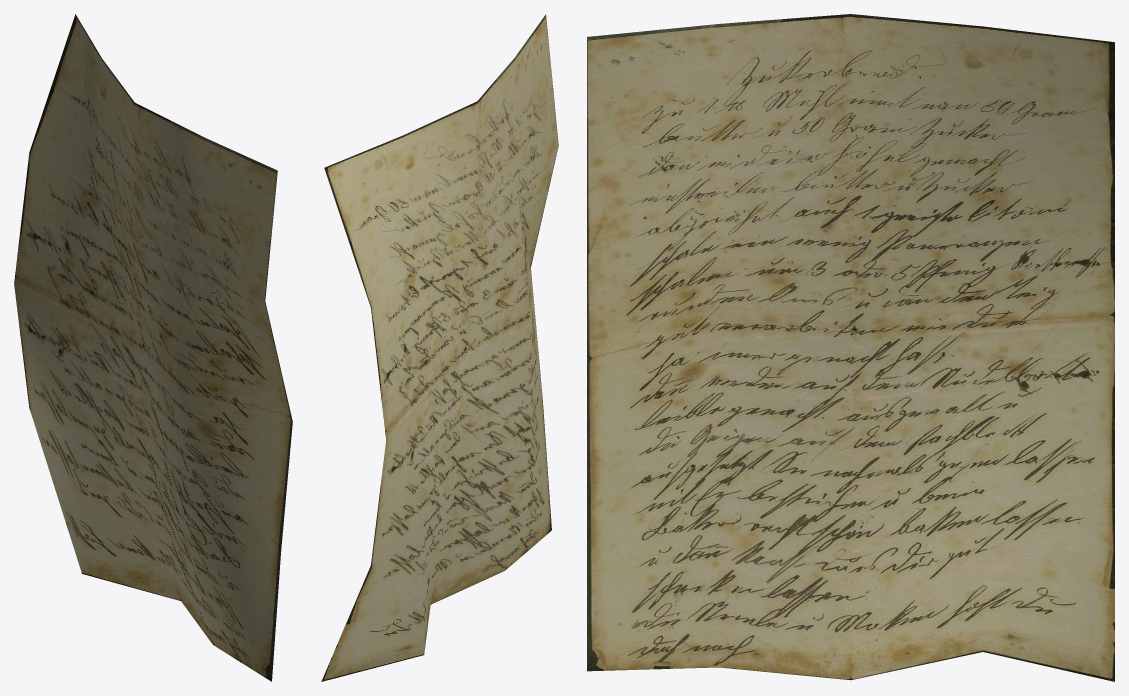
Rendered from ItemNote.fbx.
3 renders of one model, left to right at view 1: azimuth 30°, elevation 25°; view 2: azimuth 150°, elevation 25°; view 3: azimuth 270°, elevation 25°, orthographic. The views are drawn at different scales.
Visible parts, largest first — view 1: Note; view 2: Note; view 3: Note.
Part boxes in pixels (x1=…): Note: x1=14, y1=14, x2=292, y2=681; Note: x1=321, y1=14, x2=558, y2=681; Note: x1=587, y1=14, x2=1114, y2=681.
Size of the model in its own units: 1.39 by 10 by 7.5.
Materials: 1 (1 with a texture image).
